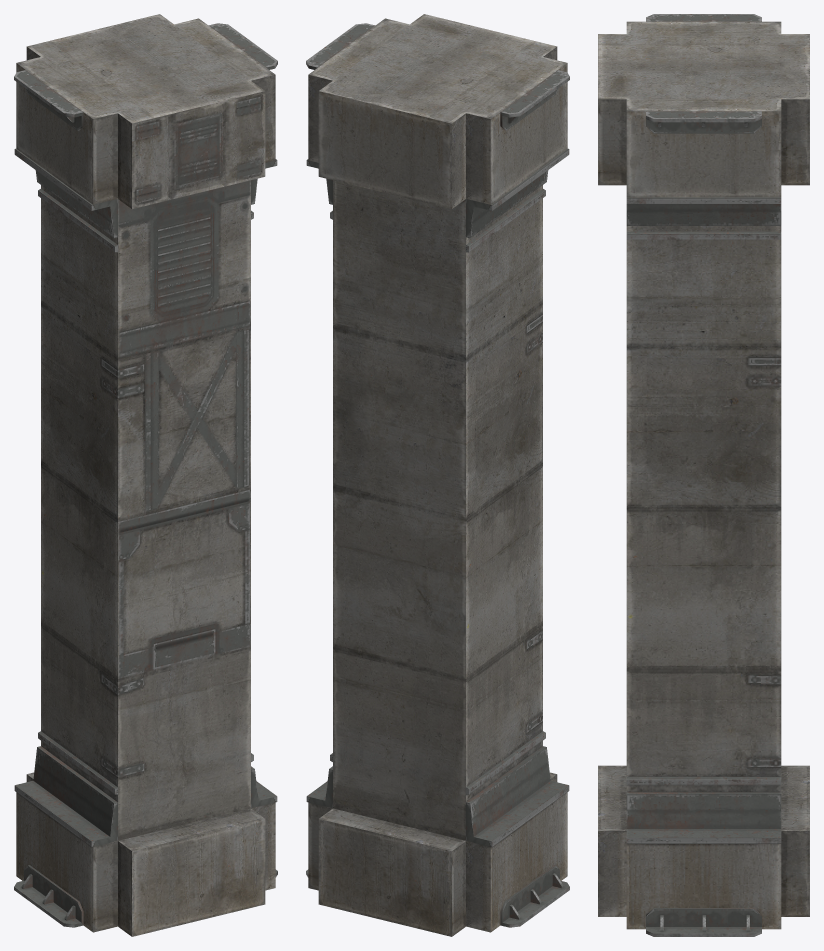
The model's file is CP_Column_Concrete_A_01.fbx.
3 renders of one model, left to right at view 1: azimuth 30°, elevation 25°; view 2: azimuth 150°, elevation 25°; view 3: azimuth 270°, elevation 25°, orthographic.
Visible parts, largest first — view 1: CP_Column_Concrete_A_01_LOD0; view 2: CP_Column_Concrete_A_01_LOD0; view 3: CP_Column_Concrete_A_01_LOD0.
Part boxes in pixels (x1,y1,x2,y2): CP_Column_Concrete_A_01_LOD0: (14,14,277,936); CP_Column_Concrete_A_01_LOD0: (306,14,569,936); CP_Column_Concrete_A_01_LOD0: (598,14,809,936).
Size of what is drawn, in the model's own units: 110 by 400 by 93.9.
